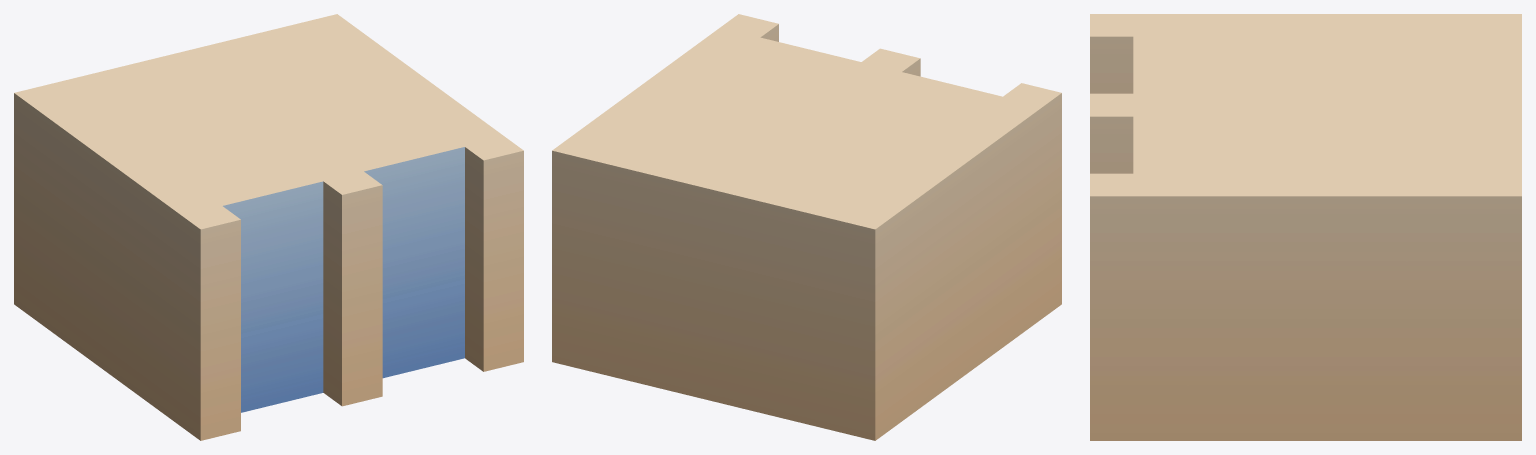
File: kenney-modular-buildings-building-windows-high-middle.glb
3 renders of one model, left to right at view 1: azimuth 30°, elevation 25°; view 2: azimuth 150°, elevation 25°; view 3: azimuth 270°, elevation 25°, orthographic. The views are drawn at different scales.
Parts seen in each view (by area): view 1: building-windows-high-middle; view 2: building-windows-high-middle; view 3: building-windows-high-middle.
Boxes of the visible parts, x1,y1,x2,y2 form: building-windows-high-middle: (14,14,523,440); building-windows-high-middle: (552,14,1061,440); building-windows-high-middle: (1090,14,1521,440).
Bounding box in the file's own units: 1 × 0.625 × 1.
1 material, 1 textured.
